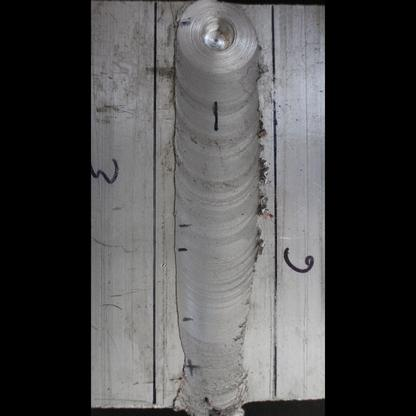crack: (235, 320, 247, 341)
cross-section reduction defect: (168, 256, 258, 405)
flash: (255, 113, 271, 263)
galling: (168, 367, 253, 407)
keyhole: (165, 1, 266, 75)
